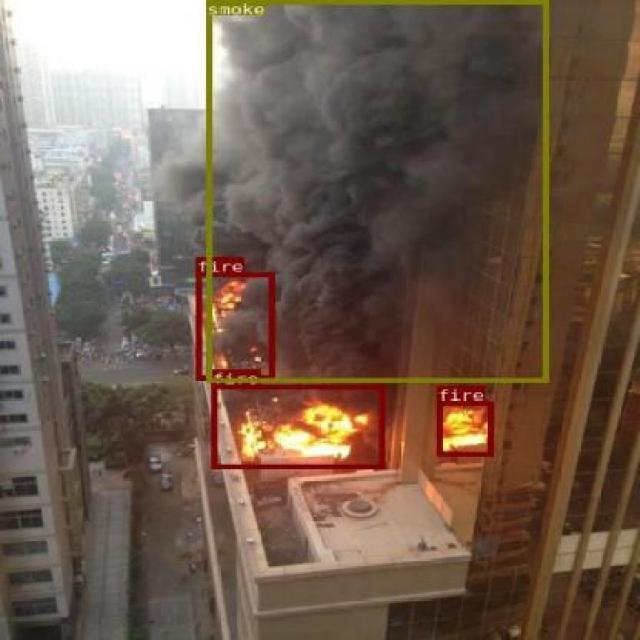Fire: (210, 384, 384, 468), (194, 272, 274, 378), (436, 400, 492, 456)
Smoke: (205, 0, 547, 382)
